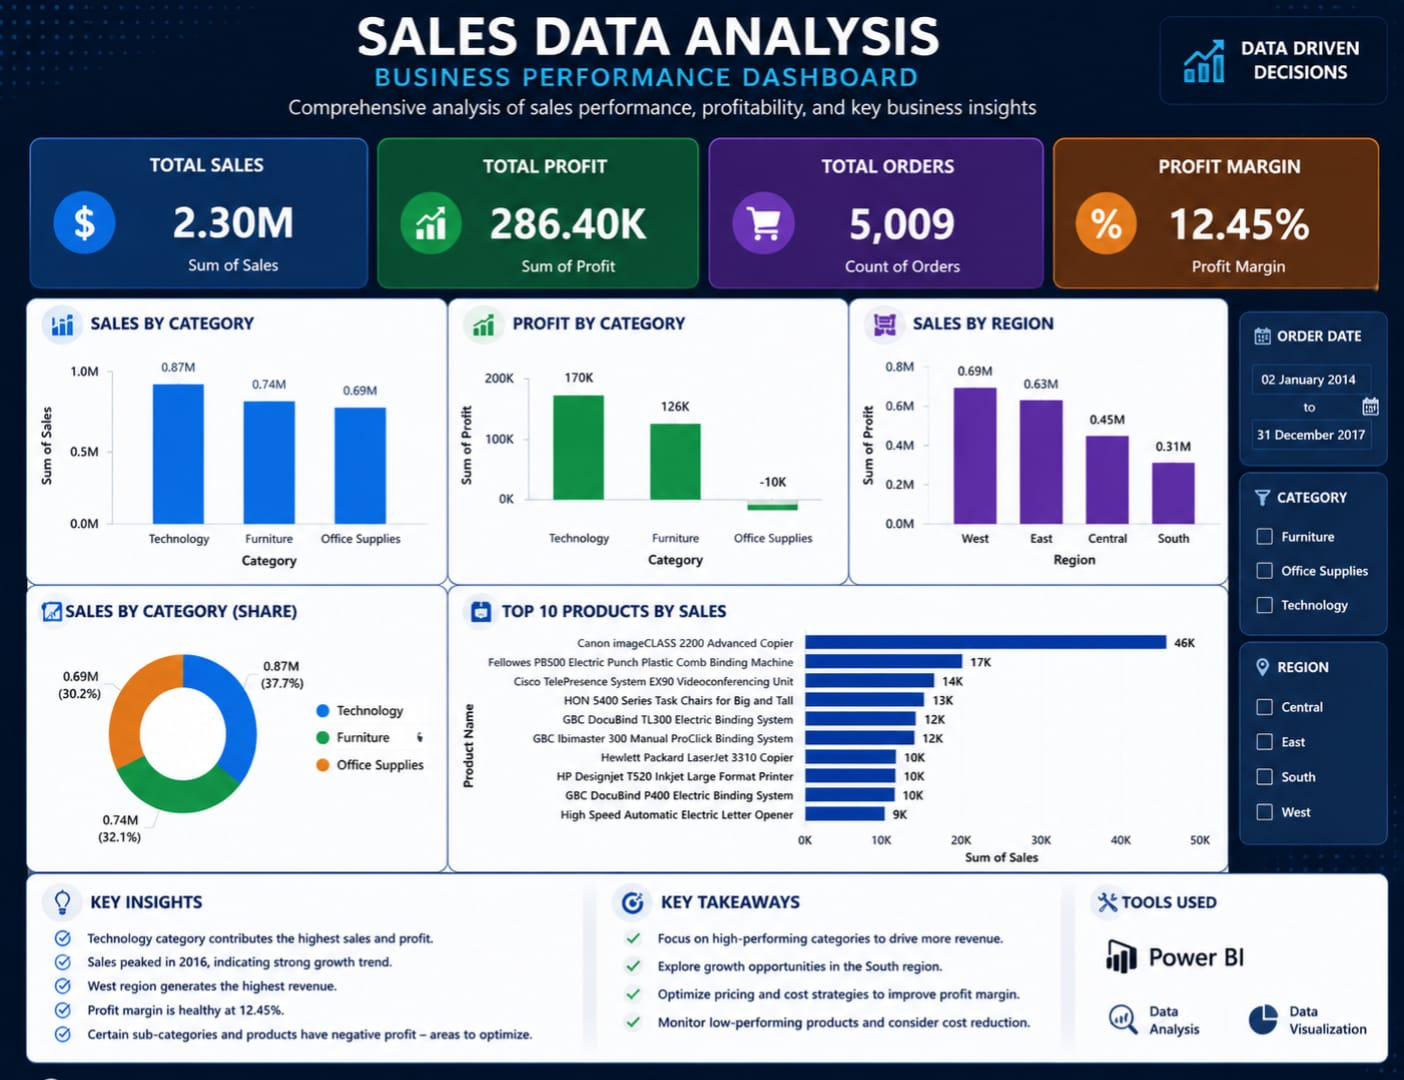

What the dashboard file says about the page in this screenshot:
{"tool":"powerbi","page":{"name":"Page 1","canvas":[1280,720],"ordinal":0},"visuals":[{"type":"card","fields":{"Values":["Sum(Sample - Superstore.Sales)"]},"box":[908.4,101.7,345.4,267.3],"z":0},{"type":"card","fields":{"Values":["Sum(Sample - Superstore.Profit)"]},"box":[908.4,411.6,345.4,307.5],"z":1000},{"type":"clusteredColumnChart","fields":{"Category":["Sample - Superstore.Category"],"Y":["Sum(Sample - Superstore.Sales)"]},"box":[444.7,101.7,392.7,293.3],"z":2000},{"type":"clusteredColumnChart","fields":{"Category":["Sample - Superstore.Category"],"Y":["Sum(Sample - Superstore.Profit)"]},"box":[447.1,411.6,392.7,307.5],"z":3000},{"type":"clusteredColumnChart","fields":{"Category":["Sample - Superstore.Region"],"Y":["Sum(Sample - Superstore.Sales)"]},"box":[0,101.7,359.6,293.3],"z":4000},{"type":"clusteredBarChart","fields":{"Category":["Sample - Superstore.Product Name"],"Y":["Sum(Sample - Superstore.Sales)"]},"box":[0,411.6,359.6,307.5],"z":5000},{"type":"textbox","box":[288.6,0,809.1,101.7],"z":6000}]}

Visuals, with their boxes on the page's 1280x720 design canvas (x1, y1, x2, y2). These are canvas units, not pixel positions in the 1404x1080 screenshot, which may show the page scaled, cropped or inside an application window:
card - Sum(Sample - Superstore.Sales): (left=908, top=102, right=1254, bottom=369)
card - Sum(Sample - Superstore.Profit): (left=908, top=412, right=1254, bottom=719)
clusteredColumnChart - Sample - Superstore.Category x Sum(Sample - Superstore.Sales): (left=445, top=102, right=837, bottom=395)
clusteredColumnChart - Sample - Superstore.Category x Sum(Sample - Superstore.Profit): (left=447, top=412, right=840, bottom=719)
clusteredColumnChart - Sample - Superstore.Region x Sum(Sample - Superstore.Sales): (left=0, top=102, right=360, bottom=395)
clusteredBarChart - Sample - Superstore.Product Name x Sum(Sample - Superstore.Sales): (left=0, top=412, right=360, bottom=719)
textbox: (left=289, top=0, right=1098, bottom=102)
